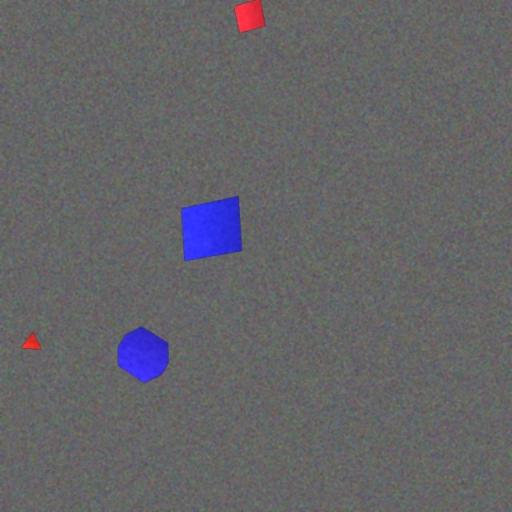BLUE_SQUARE: (180, 195, 242, 262)
RED_SQUARE: (233, 0, 266, 34)
